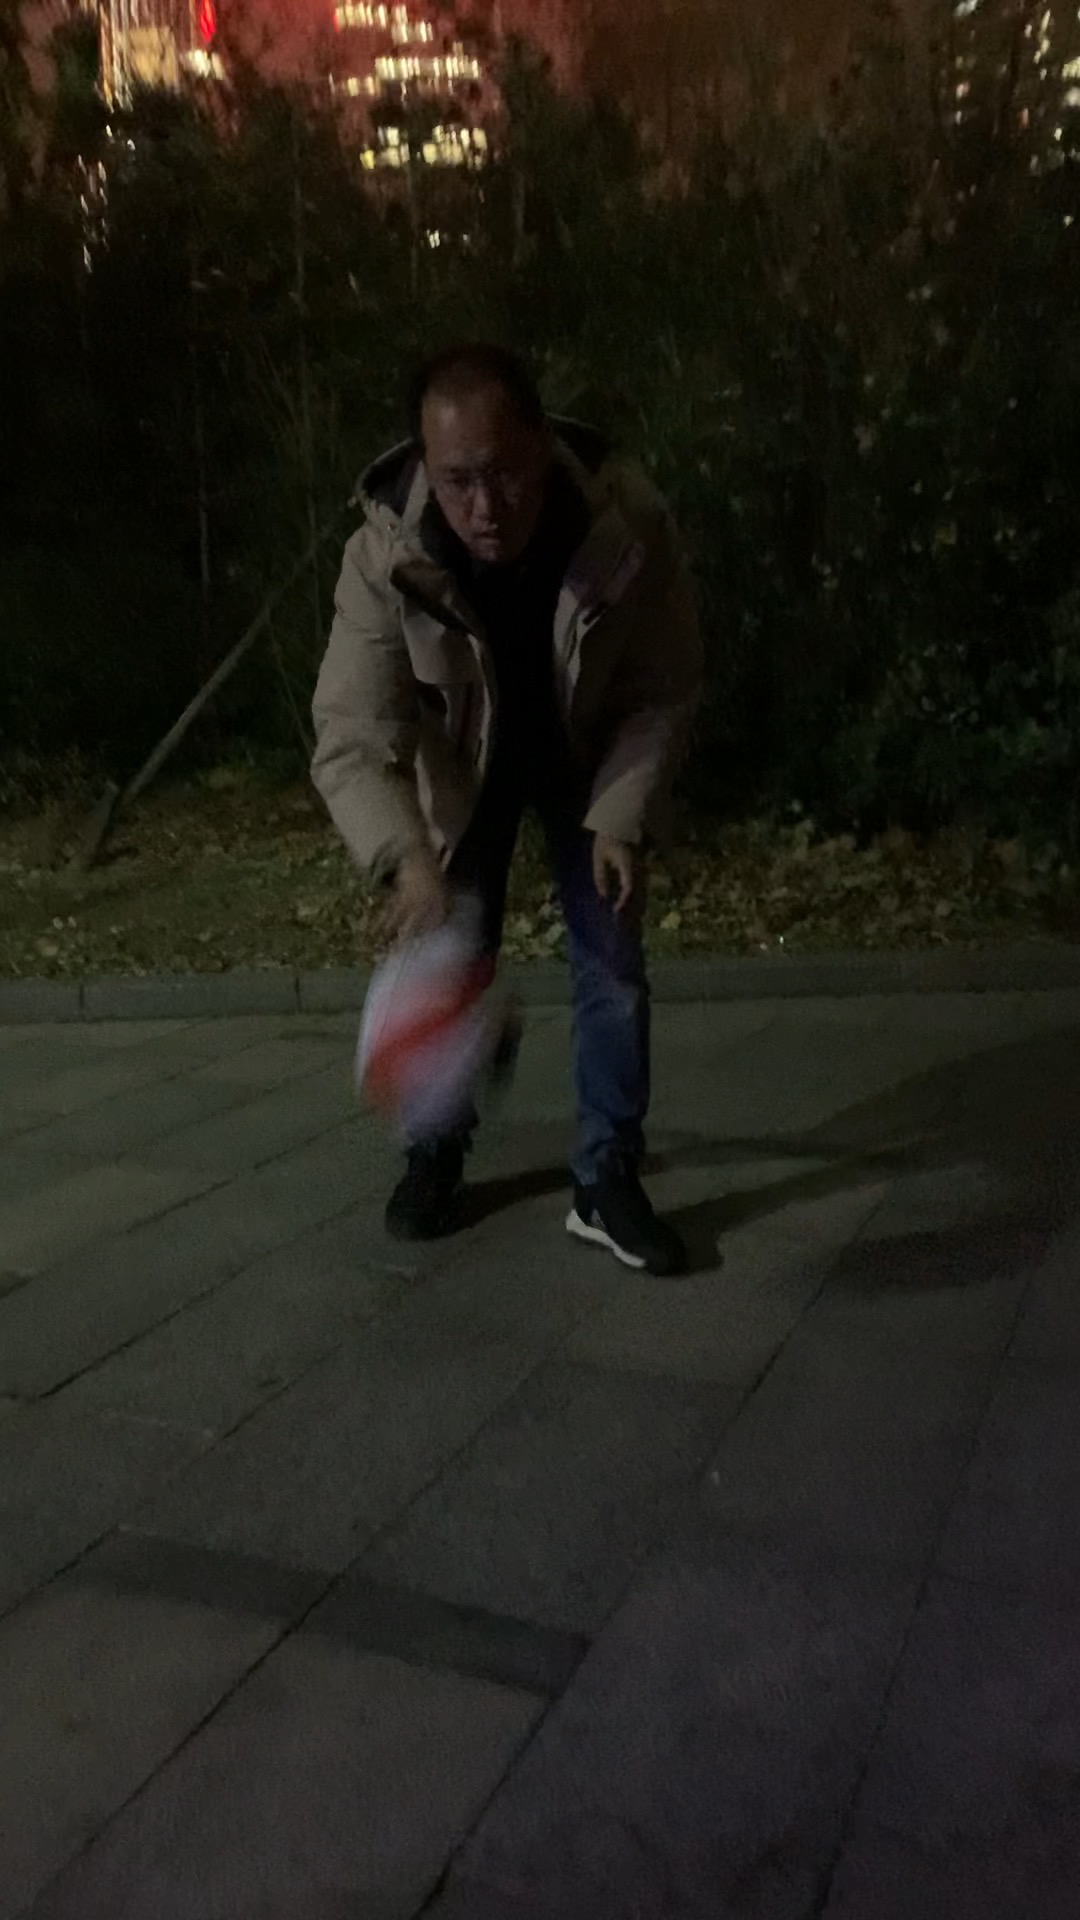ball: (363, 928, 531, 1112)
